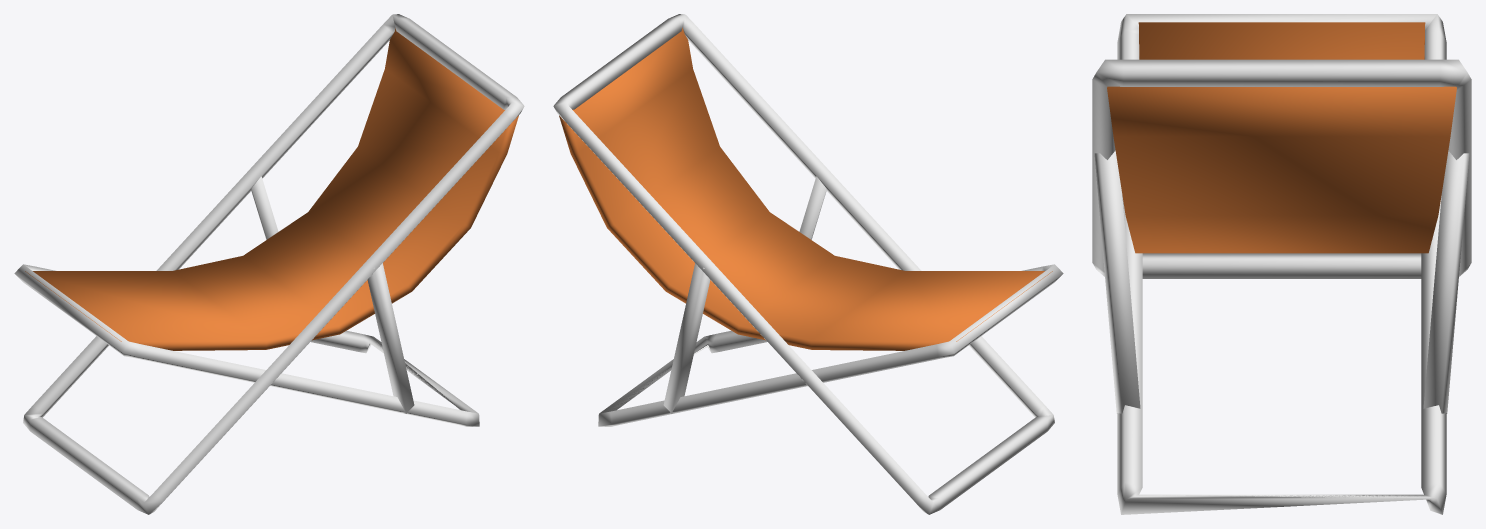
File: GardenChair.fbx
3 renders of one model, left to right at view 1: azimuth 30°, elevation 25°; view 2: azimuth 150°, elevation 25°; view 3: azimuth 270°, elevation 25°, orthographic. The views are drawn at different scales.
Visible parts, largest first — view 1: Chair; view 2: Chair; view 3: Chair.
Part boxes in pixels (<box>): Chair: <box>14,14,524,514</box>; Chair: <box>553,14,1063,514</box>; Chair: <box>1092,14,1471,514</box>.
Bounding box in the file's own units: 1.14 × 0.8892 × 0.6409.
